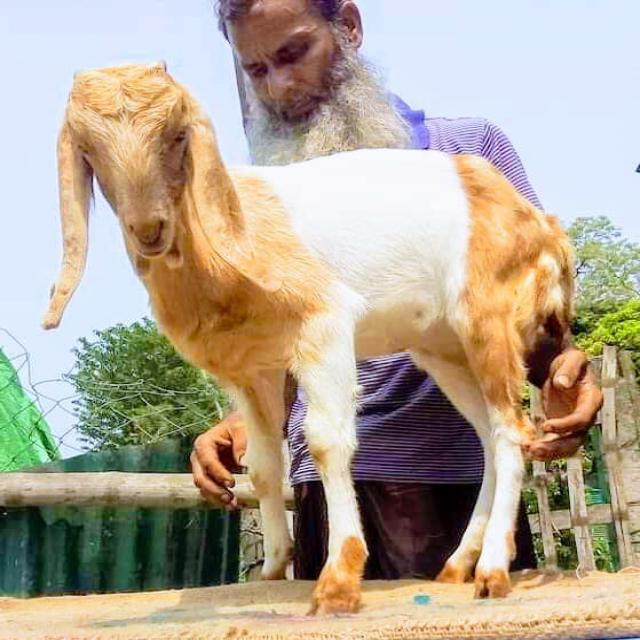Goat: (40, 58, 602, 615)
